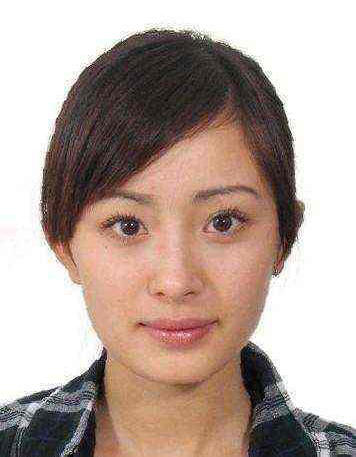unmask: (74, 135, 279, 379)
